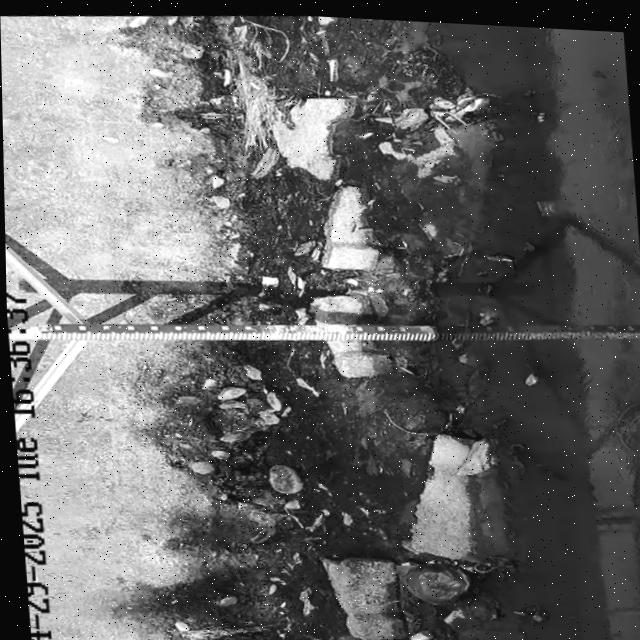water-meter: (31, 297, 453, 369)
